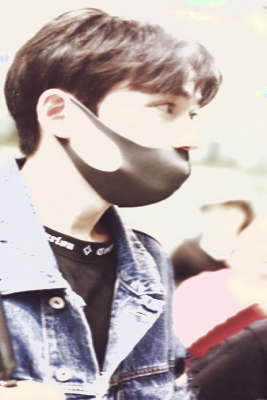mask_weared_incorrect: (67, 97, 202, 207)
